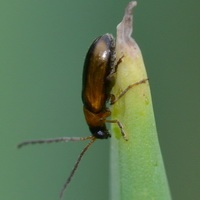insect: (17, 34, 126, 199)
